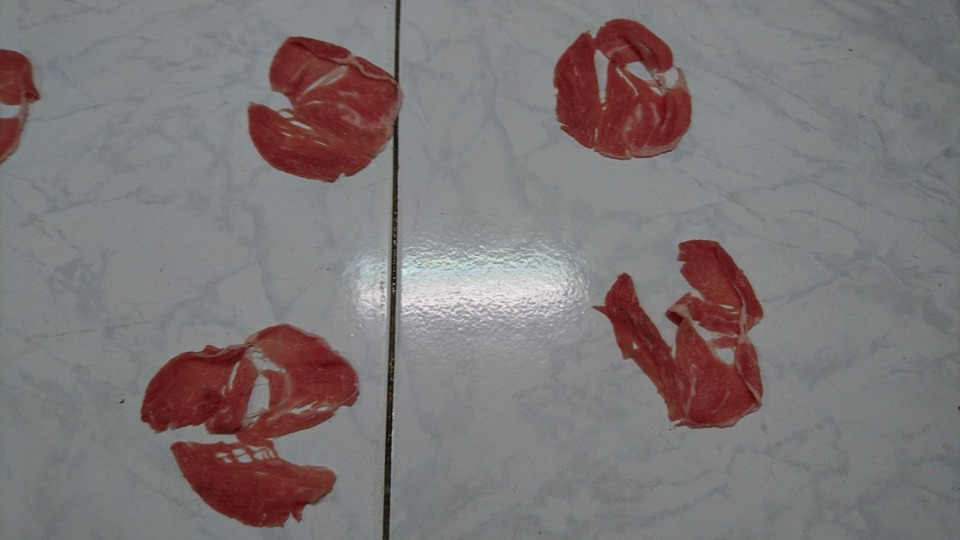restructured meat: (130, 307, 358, 523), (595, 213, 778, 432), (225, 39, 401, 180), (544, 19, 707, 167), (1, 41, 55, 163)
